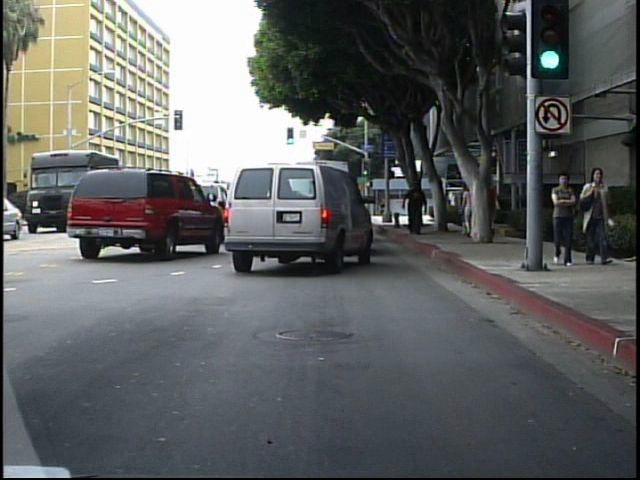person: (579, 162, 621, 271), (548, 170, 579, 271), (400, 181, 428, 237), (483, 172, 504, 242), (459, 177, 478, 248), (414, 186, 428, 219)
